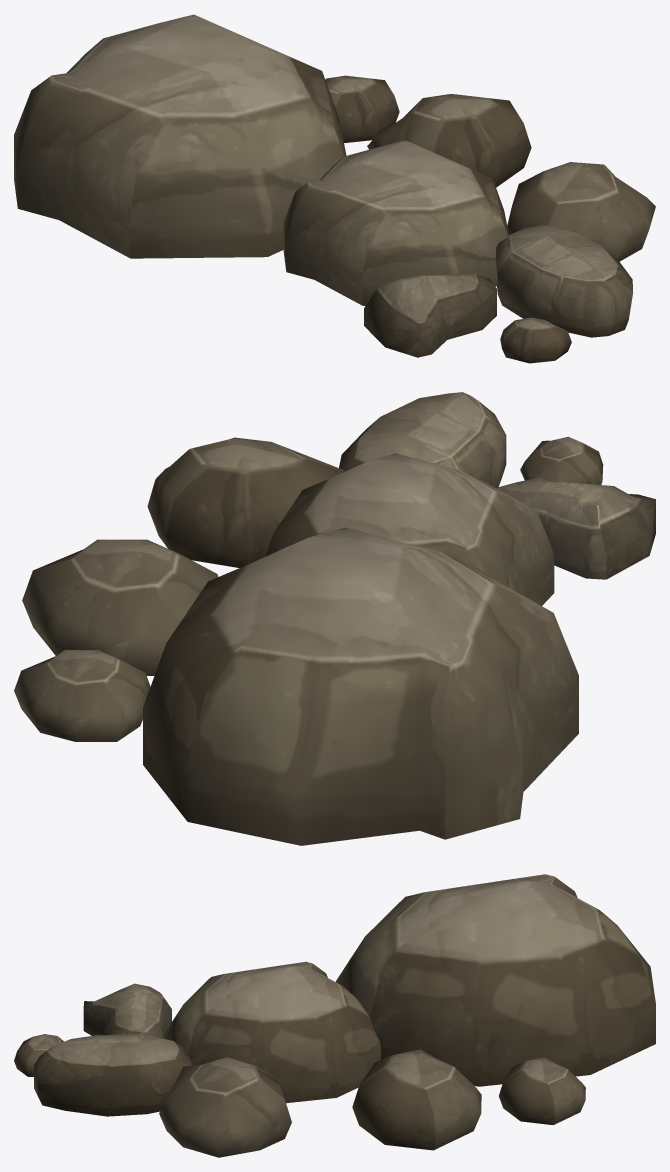
The model's file is rockClusterMesh.FBX.
The picture shows the model from 3 angles, top to bottom: view 1: azimuth 30°, elevation 25°; view 2: azimuth 150°, elevation 25°; view 3: azimuth 270°, elevation 25°; orthographic projection. The views are drawn at different scales.
Visible parts, largest first — view 1: rockCluster; view 2: rockCluster; view 3: rockCluster.
Boxes of the visible parts, left/top/right/bottom form: rockCluster: left=14, top=14, right=655, bottom=363; rockCluster: left=14, top=392, right=655, bottom=845; rockCluster: left=14, top=874, right=655, bottom=1157.
Bounding box in the file's own units: 4914 × 1418 × 6627.
